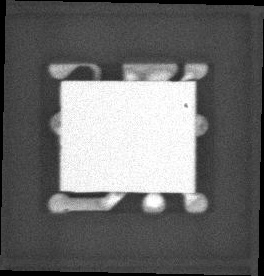DIE_INK: (174, 106, 182, 114)
